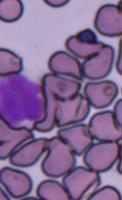M: (0, 72, 41, 127)
